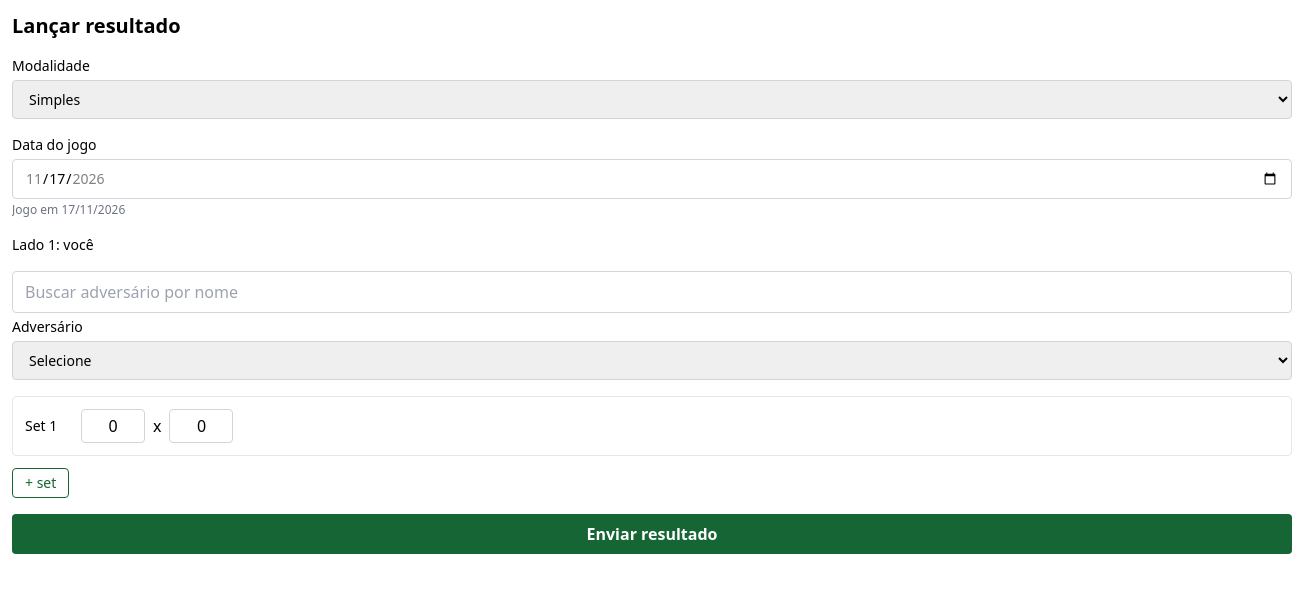
it: mostra erro traduzido do RPC
Select "Bruno (B)" in the dropdown labelled "Adversário" at (652, 360), box x1=12 y1=341 x2=1292 y2=380
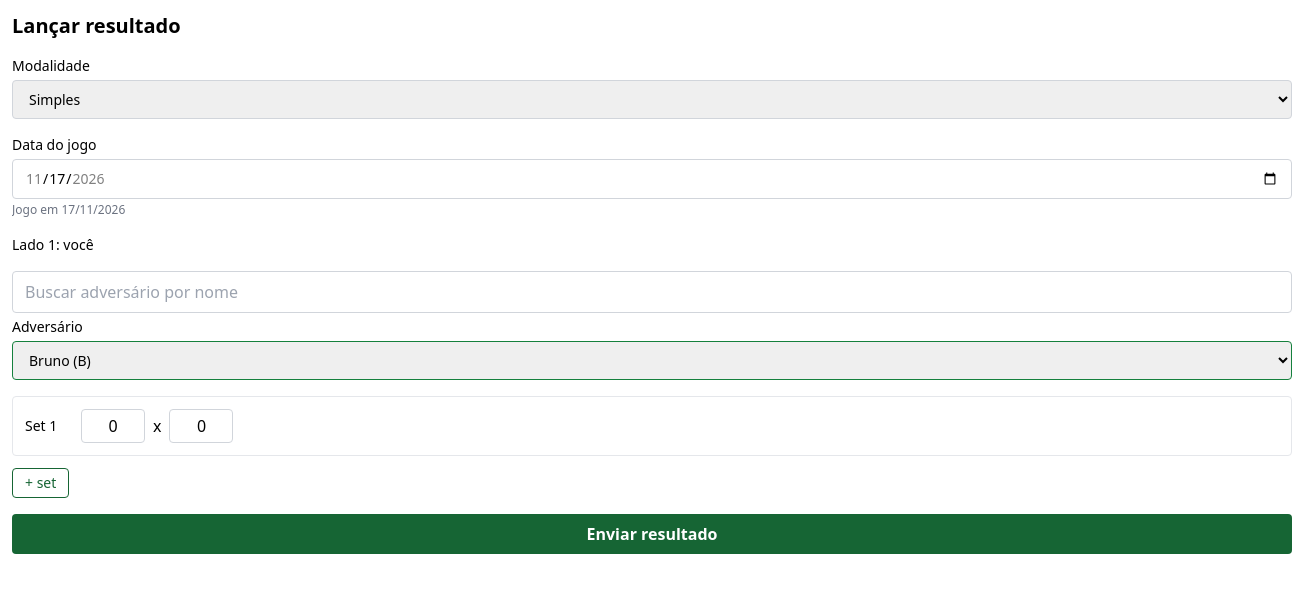
Click the button "Enviar resultado" at (652, 534), box x1=12 y1=514 x2=1292 y2=554
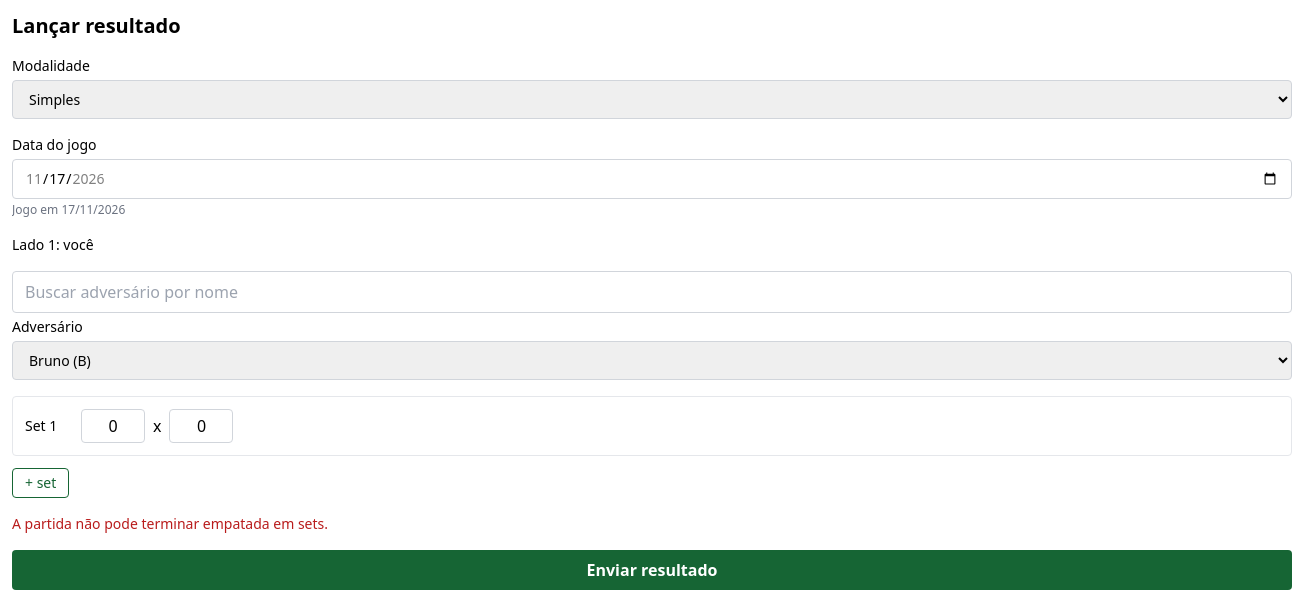
Now the message reads "A partida não pode terminar empatada em sets.", box x1=12 y1=514 x2=328 y2=533
